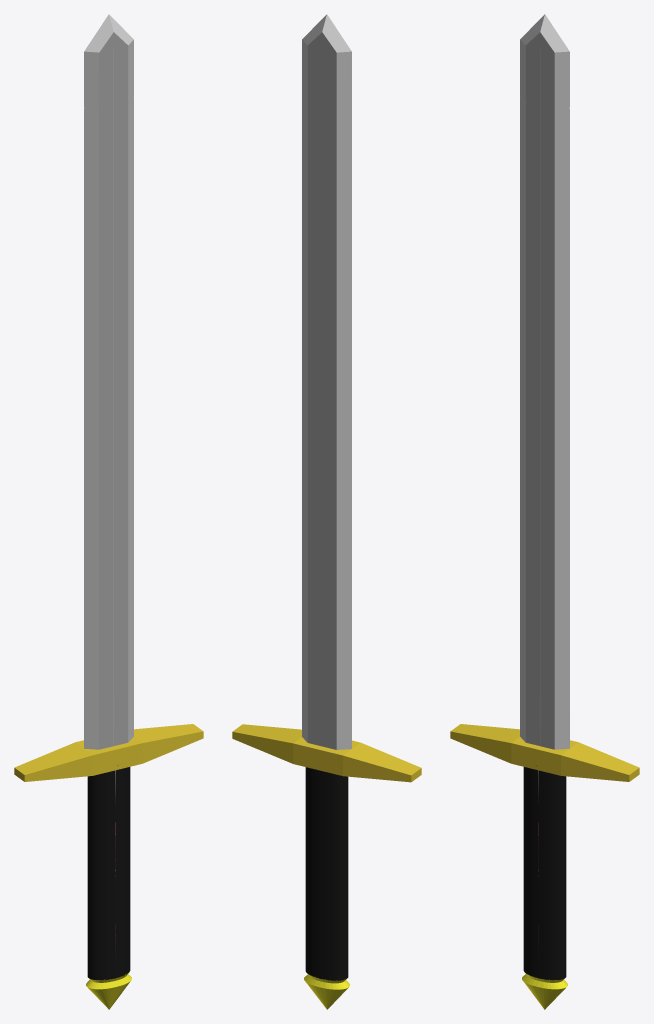
The model's file is Sword.fbx.
3 views of the same model, side by side, from view 1: azimuth 30°, elevation 25°; view 2: azimuth 150°, elevation 25°; view 3: azimuth 330°, elevation 25° (orthographic).
Visible parts, largest first — view 1: Cube; view 2: Cube; view 3: Cube.
Boxes of the visible parts, <box> form: Cube: <box>14,14,203,1009</box>; Cube: <box>232,14,421,1009</box>; Cube: <box>450,14,639,1009</box>.
Bounding box in the file's own units: 25.02 × 133 × 4.29.
